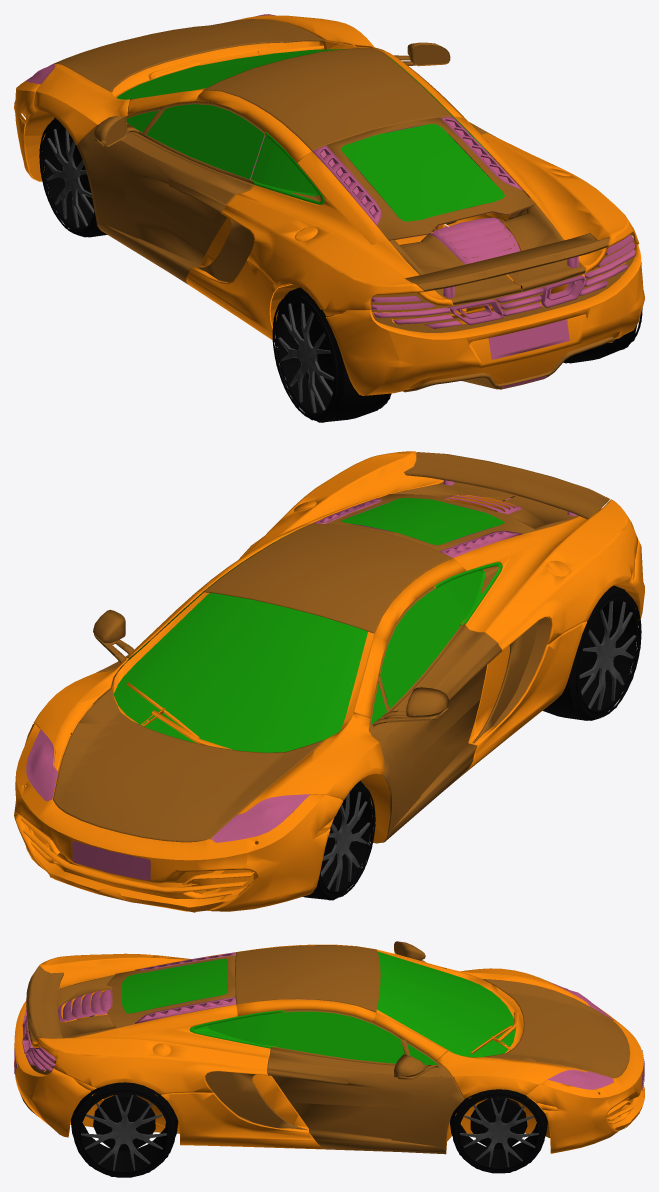
File: Car_Opt_Sports1.fbx
The picture shows the model from 3 angles, top to bottom: view 1: azimuth 30°, elevation 25°; view 2: azimuth 150°, elevation 25°; view 3: azimuth 270°, elevation 25°; orthographic projection. The views are drawn at different scales.
Visible parts, largest first — view 1: Body.019, Body.010, Plane.004, Body.023, Plane.003, Body.033, Plane.005; view 2: Body.019, Body.023, Body.010, Plane.004, Plane.003, Body.033; view 3: Body.019, Body.033, Body.023, Plane.005, Plane.002, Body.010.
Part boxes in pixels (x1,y1,x2,y2): Body.019: (14, 14, 644, 395); Body.010: (77, 101, 265, 284); Plane.004: (272, 287, 391, 422); Body.023: (53, 19, 324, 92); Plane.003: (39, 118, 107, 237); Body.033: (384, 42, 496, 224); Plane.005: (521, 285, 642, 363); Body.019: (14, 451, 644, 912); Body.023: (53, 688, 324, 842); Body.010: (369, 586, 502, 843); Plane.004: (542, 585, 641, 720); Plane.003: (303, 780, 375, 900); Body.033: (93, 550, 261, 704); Body.019: (14, 944, 644, 1153); Body.033: (267, 1009, 464, 1154); Body.023: (483, 979, 629, 1078); Plane.005: (70, 1082, 178, 1177); Plane.002: (450, 1089, 547, 1173); Body.010: (316, 941, 426, 1012).
Bounding box in the file's own units: 220 × 128 × 458.
